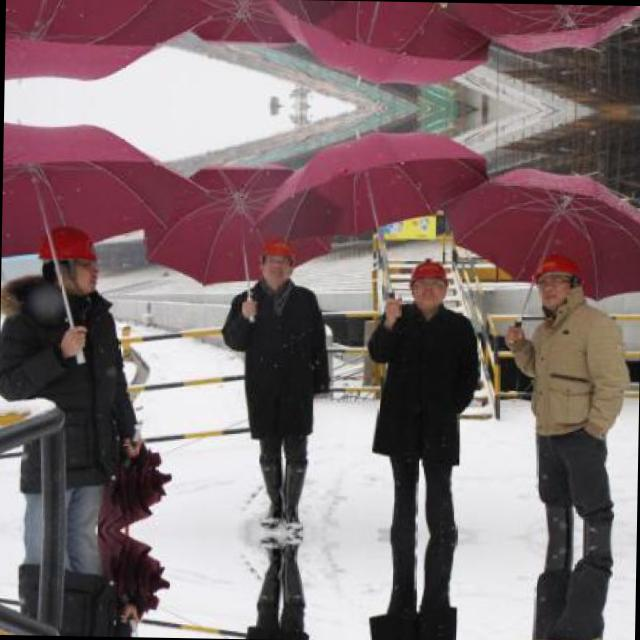helmet: (45, 225, 102, 298), (530, 250, 583, 306), (406, 256, 450, 308), (254, 237, 296, 284)
